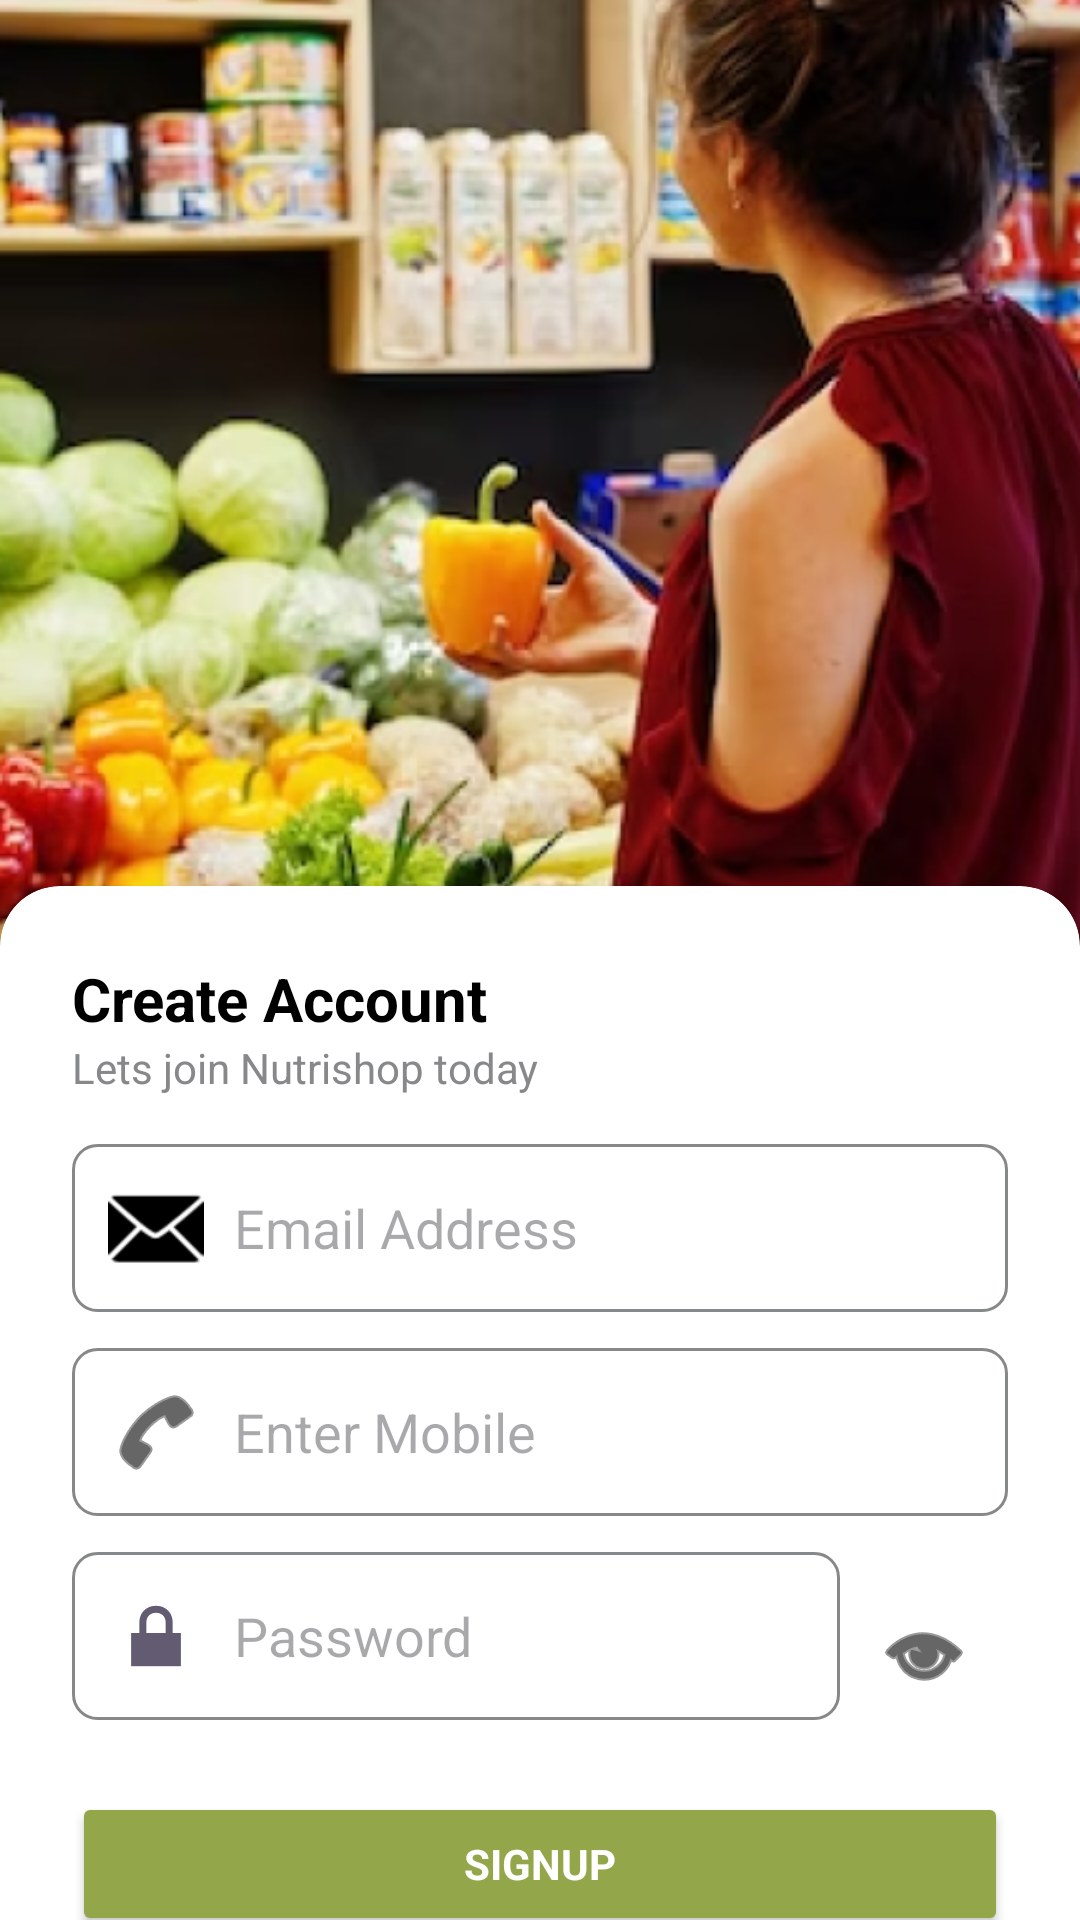

Screen size 1080*1920. Icon name, then its center in pixels as (x=x, y=y):
view: (x=924, y=1656)
